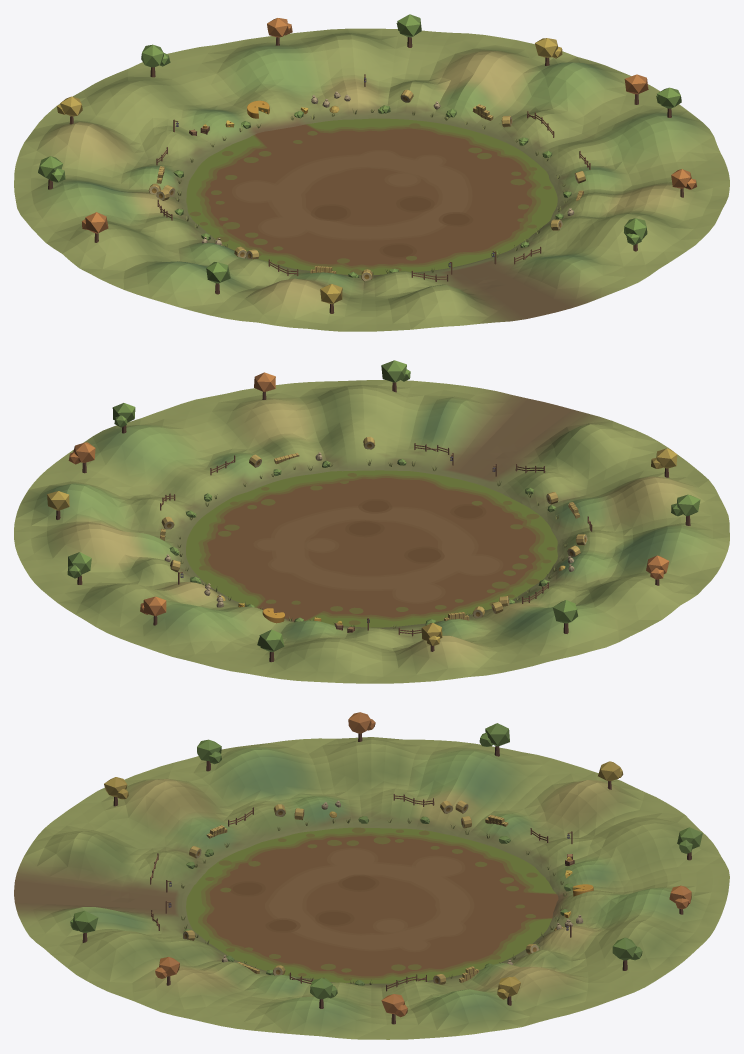
The model's file is Rat_Arena.glb.
3 views of the same model, one above another, from view 1: azimuth 30°, elevation 25°; view 2: azimuth 150°, elevation 25°; view 3: azimuth 270°, elevation 25° (orthographic).
Visible parts, largest first — view 1: Hills, Floor, Props; view 2: Hills, Floor, Props; view 3: Hills, Floor, Props.
Boxes of the visible parts, bbox=[...] form: Hills: bbox=[14, 28, 729, 331]; Floor: bbox=[186, 118, 557, 274]; Props: bbox=[38, 14, 696, 313]; Hills: bbox=[14, 380, 729, 683]; Floor: bbox=[186, 470, 557, 627]; Props: bbox=[47, 360, 700, 662]; Hills: bbox=[14, 737, 729, 1039]; Floor: bbox=[186, 827, 558, 983]; Props: bbox=[70, 712, 702, 1024].
Bounding box in the file's own units: 194 × 18.62 × 195.
